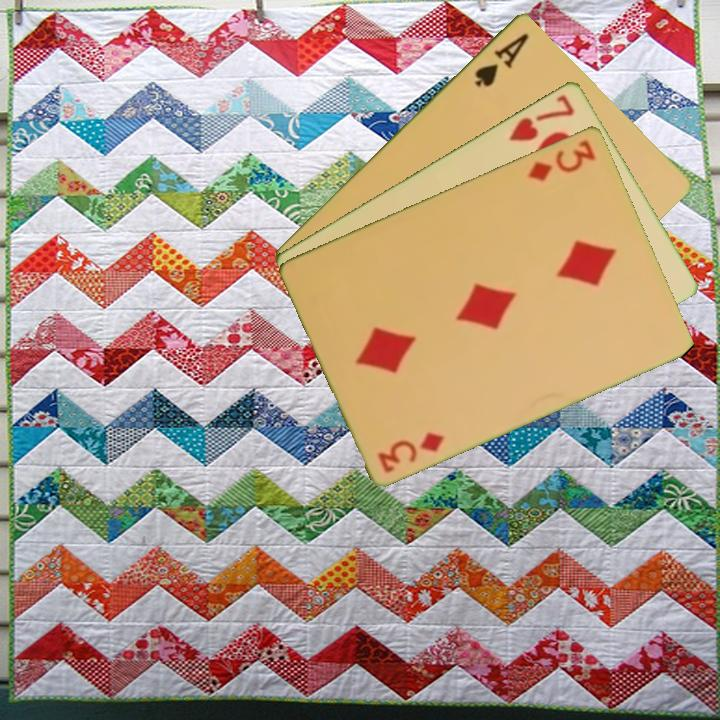3d: (525, 135, 599, 184), (374, 428, 448, 476)
7h: (505, 90, 578, 144)
As: (471, 28, 532, 90)
